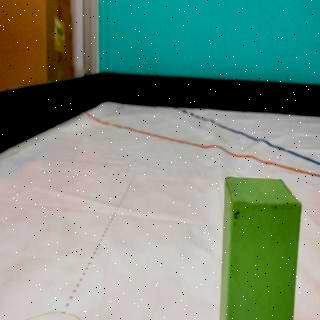greenbox: (220, 177, 304, 320)
